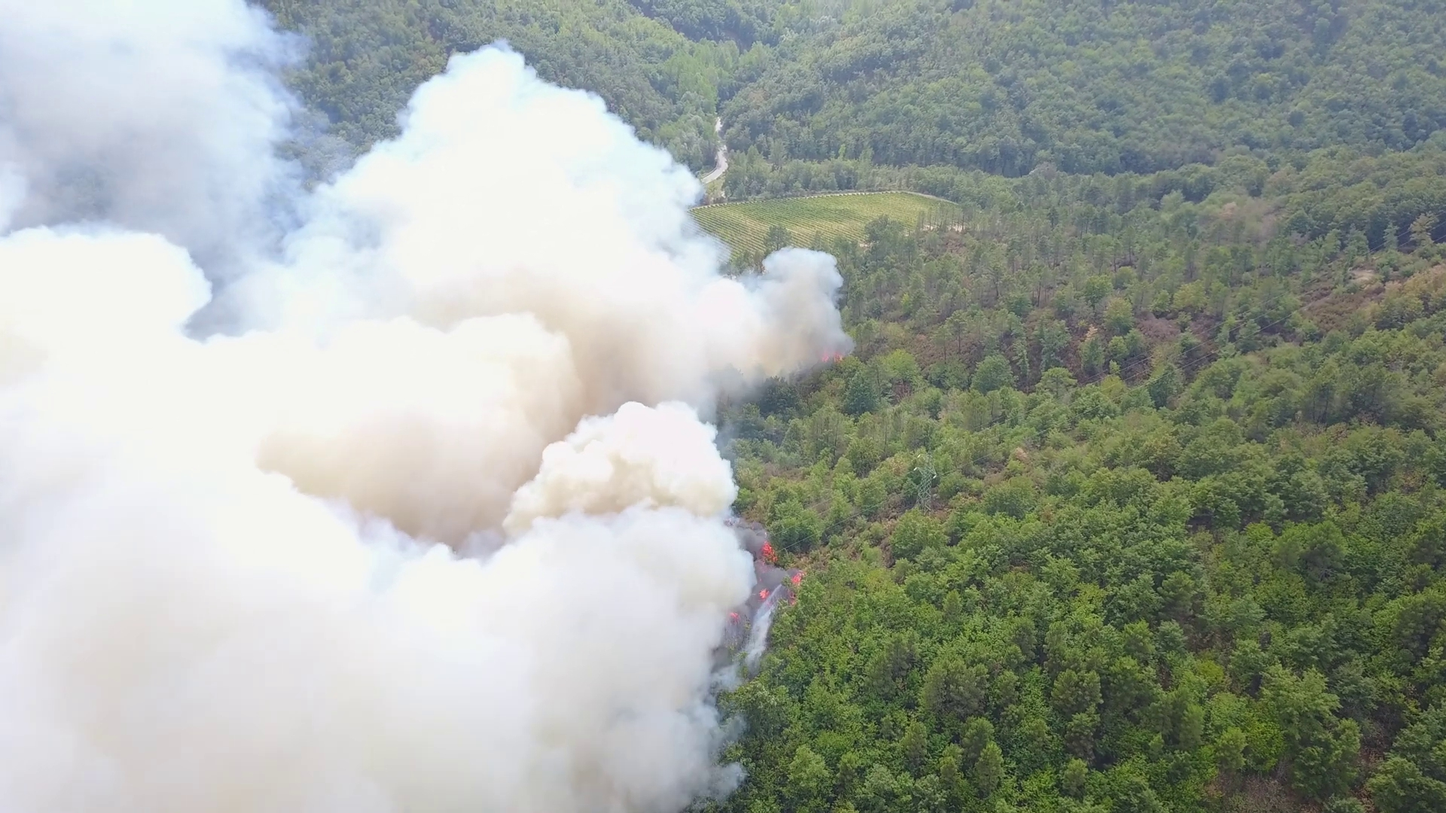forest_fire: (745, 534, 803, 662), (730, 610, 746, 634)
